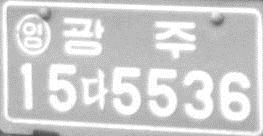1: (10, 62, 43, 111)
3: (181, 69, 215, 120)
5: (146, 67, 178, 118), (46, 62, 77, 113), (111, 65, 142, 116)
6: (218, 71, 251, 122)
광주_D: (61, 17, 196, 59)
다: (80, 69, 108, 109)
영: (14, 12, 50, 55)
